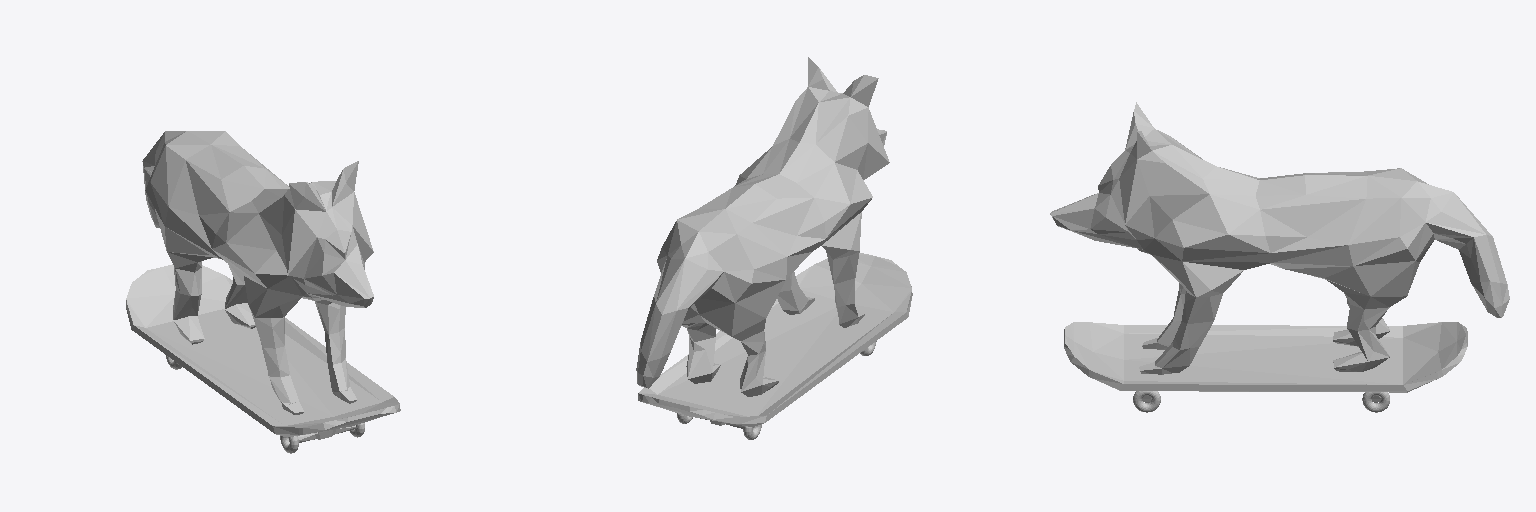
The model's file is Fuchs04.obj.
The picture shows the model from 3 angles: view 1: azimuth 30°, elevation 25°; view 2: azimuth 150°, elevation 25°; view 3: azimuth 270°, elevation 25°; orthographic projection.
Size of the model in its own units: 3.58 by 7.88 by 11.74.